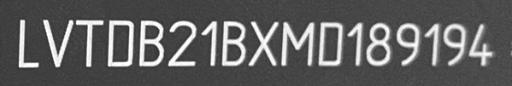letter: (41, 17, 75, 69), (280, 18, 314, 66), (106, 17, 136, 69), (248, 19, 280, 67), (74, 16, 104, 66), (168, 19, 198, 67), (219, 18, 247, 68), (136, 19, 164, 69), (364, 20, 394, 66), (316, 19, 344, 67), (16, 16, 40, 68), (467, 21, 495, 65), (440, 22, 468, 66), (395, 20, 421, 66), (199, 18, 219, 68), (346, 20, 366, 66), (422, 21, 442, 67)
